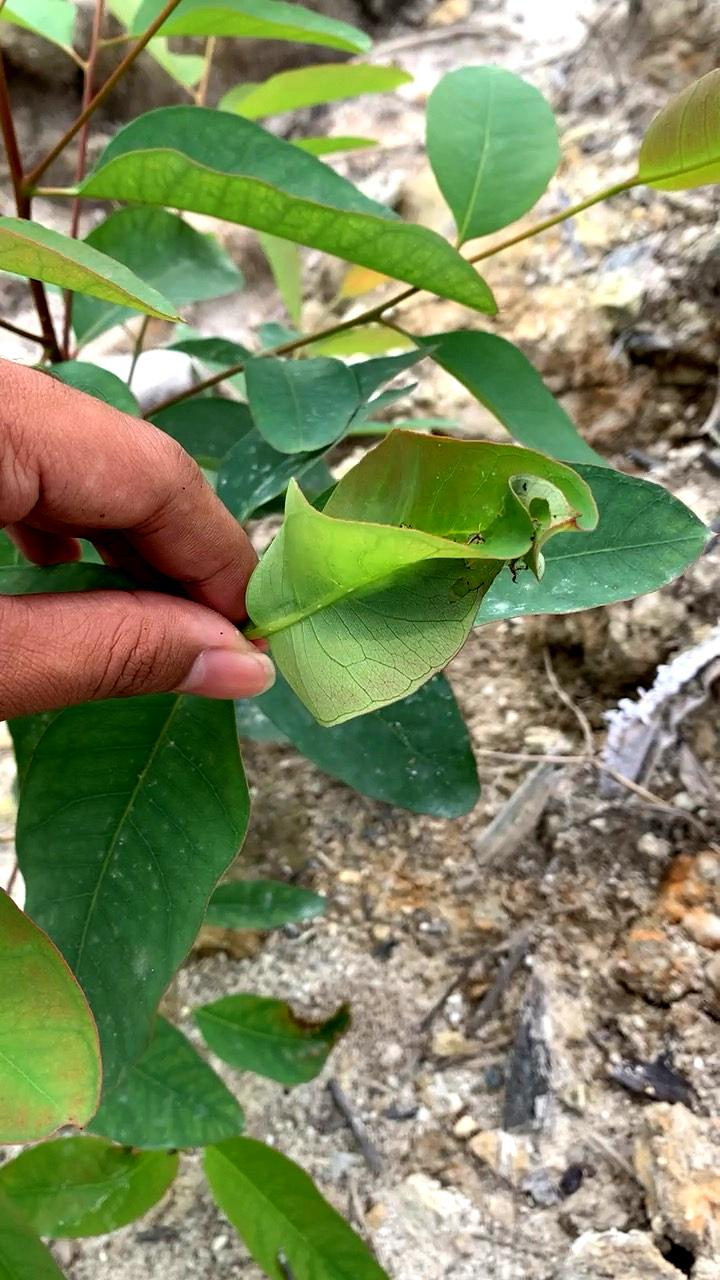Leaf Roller - Leaf: (195, 408, 608, 750)
